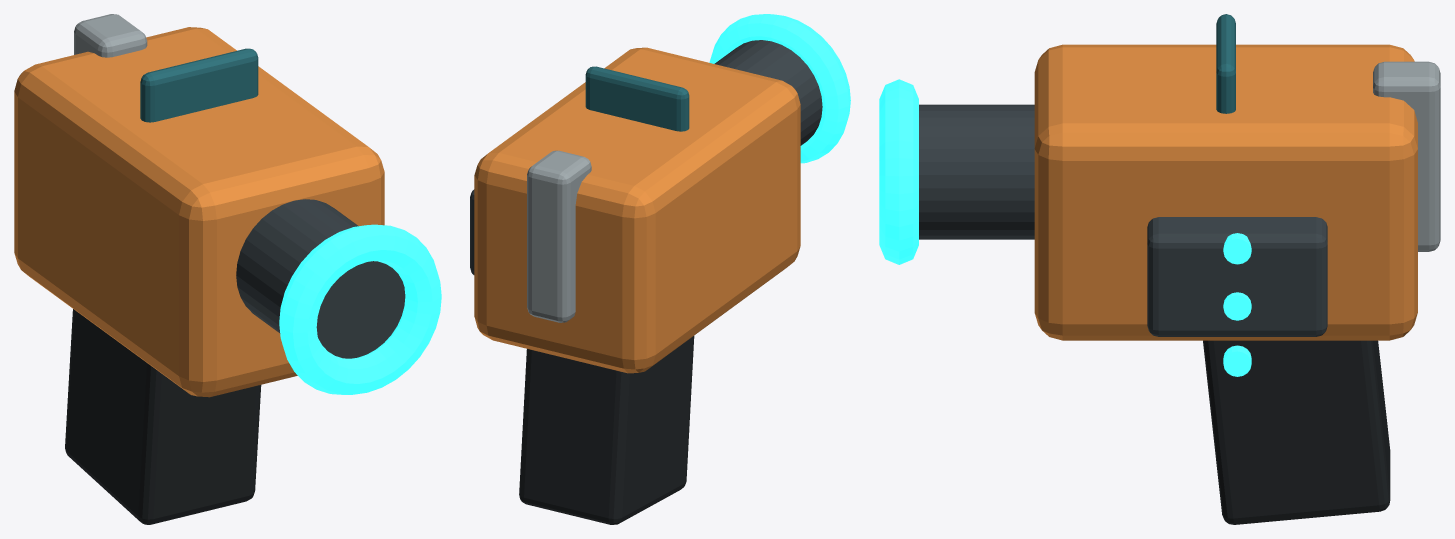
Rendered from build_gun_variant_d.glb.
3 views of the same model, side by side, from view 1: azimuth 30°, elevation 25°; view 2: azimuth 150°, elevation 25°; view 3: azimuth 270°, elevation 25° (orthographic). The views are drawn at different scales.
Visible parts, largest first — view 1: Tool body, Tool grip, Emitter rim, Tool barrel, Top display, Modular attachment rail; view 2: Tool body, Tool grip, Modular attachment rail, Emitter rim, Top display, Tool barrel; view 3: Tool body, Tool grip, Side module, Tool barrel, Emitter rim, Modular attachment rail, Top display, Status indicator, Status indicator.002, Status indicator.001.
Part boxes in pixels (<box>): Tool body: <box>14,27,384,397</box>; Tool grip: <box>65,309,261,524</box>; Emitter rim: <box>279,224,441,394</box>; Tool barrel: <box>236,199,405,358</box>; Top display: <box>140,48,258,122</box>; Modular attachment rail: <box>74,14,147,57</box>; Tool body: <box>474,47,800,373</box>; Tool grip: <box>519,336,694,524</box>; Modular attachment rail: <box>527,150,591,322</box>; Emitter rim: <box>709,14,850,163</box>; Top display: <box>585,66,689,131</box>; Tool barrel: <box>714,40,822,145</box>; Tool body: <box>1034,44,1417,340</box>; Tool grip: <box>1203,340,1390,524</box>; Side module: <box>1147,217,1327,336</box>; Tool barrel: <box>919,104,1034,239</box>; Emitter rim: <box>879,79,918,264</box>; Modular attachment rail: <box>1373,61,1440,251</box>; Top display: <box>1216,14,1235,113</box>; Status indicator: <box>1223,345,1251,376</box>; Status indicator.002: <box>1223,233,1251,264</box>; Status indicator.001: <box>1223,292,1251,320</box>.
Size of what is drawn, in the model's own units: 0.5225 by 0.9018 by 0.995.
